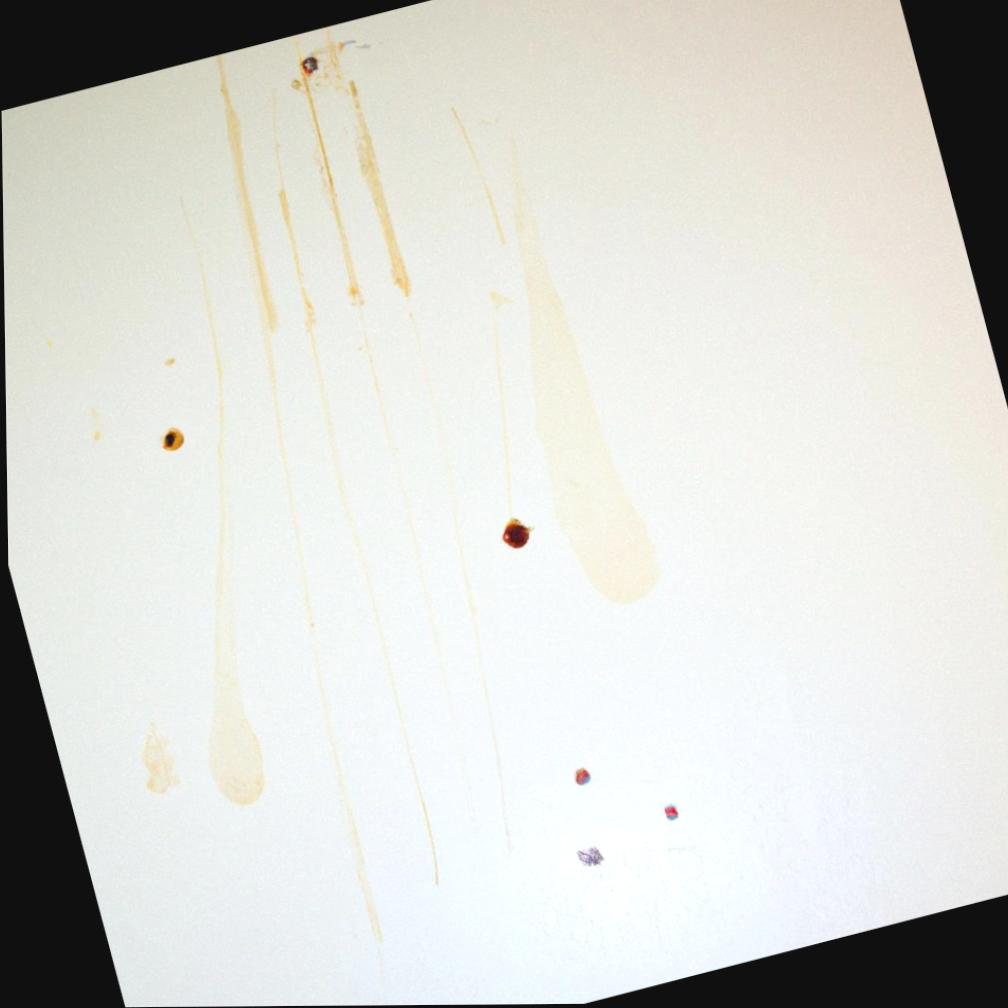Fire: (500, 519, 532, 550)
